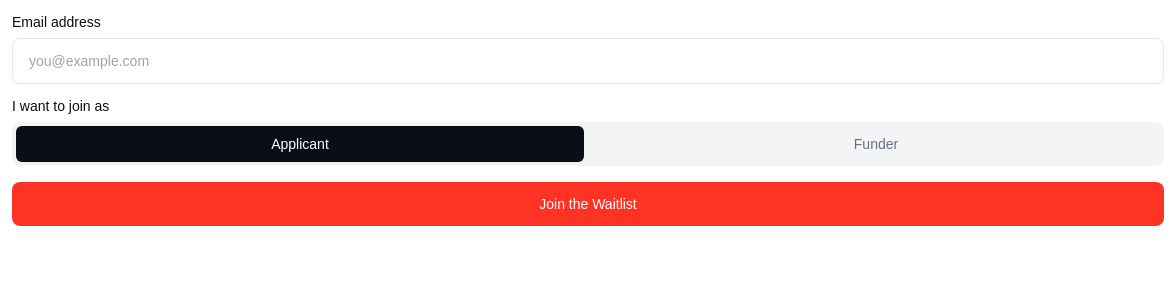
Test case: WaitlistForm › shows inline error for duplicate signup (already on waitlist)
This screenshot has width=1176, height=283.
In the field with placeholder "you@example.com": (588, 61) [12,38,1164,84], type "dup@example.com"
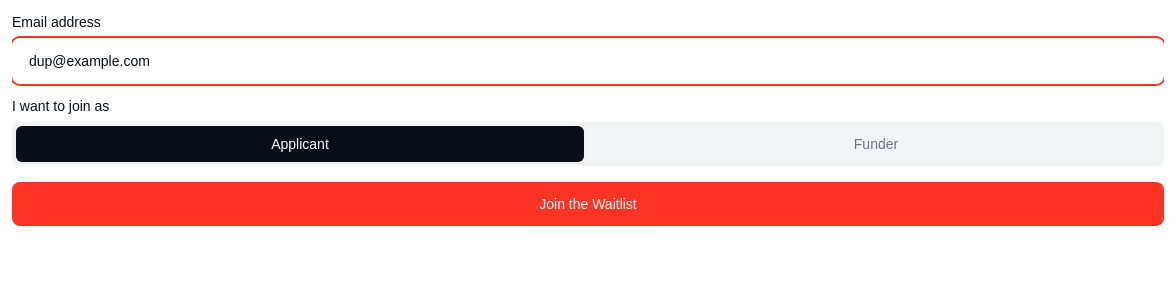
Click the button "Join the Waitlist": (588, 204) [12,182,1164,226]
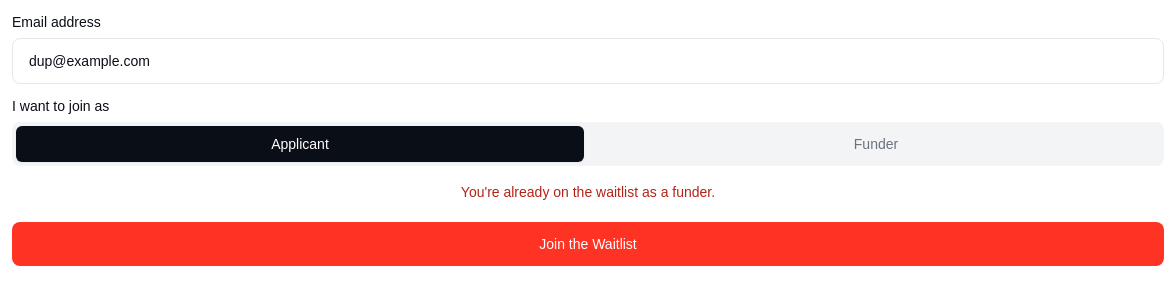
Check: the text "You're already on the waitlist as a funder." is shown, box [461,184,715,200]
